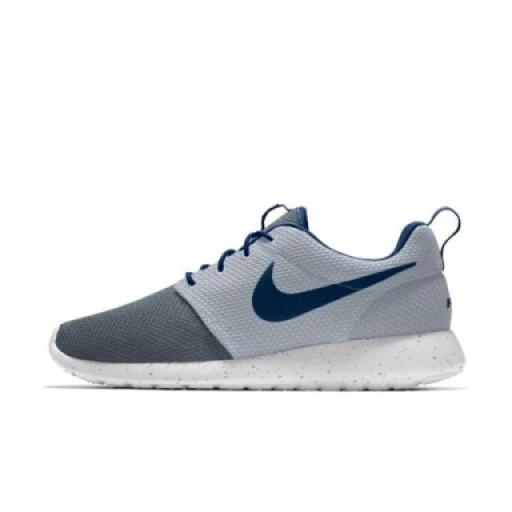Nike: (251, 255, 421, 328)
